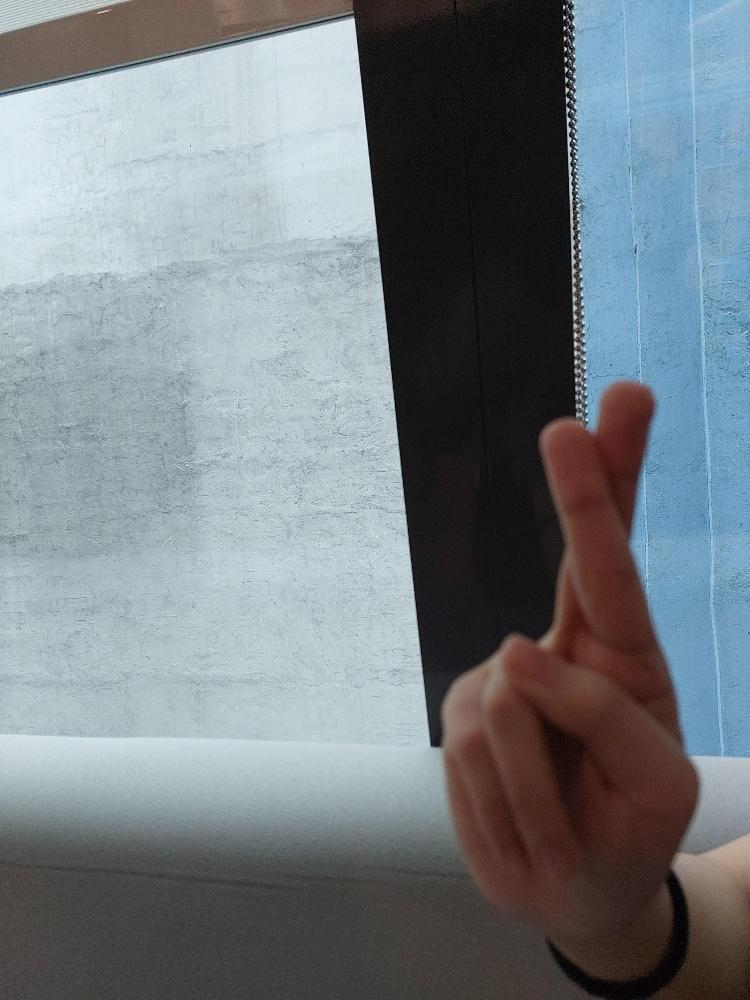r: (438, 378, 703, 925)
